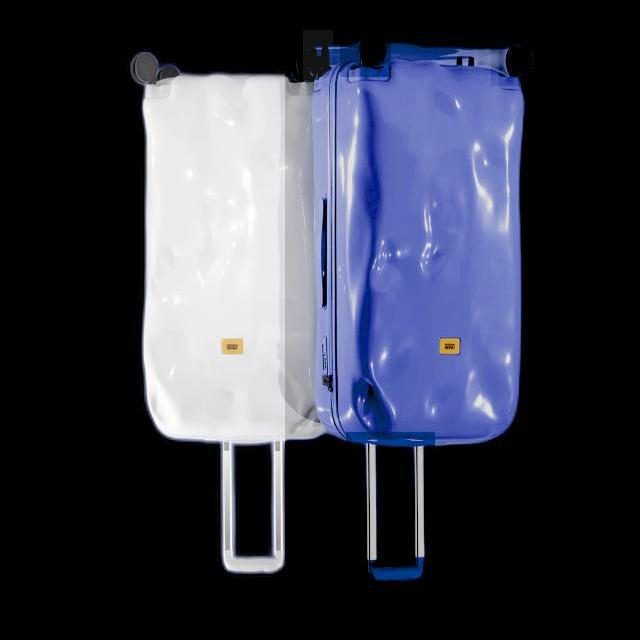Damage-bag: (352, 272, 389, 431), (418, 170, 462, 279), (470, 130, 511, 230), (466, 336, 511, 420), (362, 96, 379, 260), (371, 235, 401, 275), (434, 89, 461, 115)
